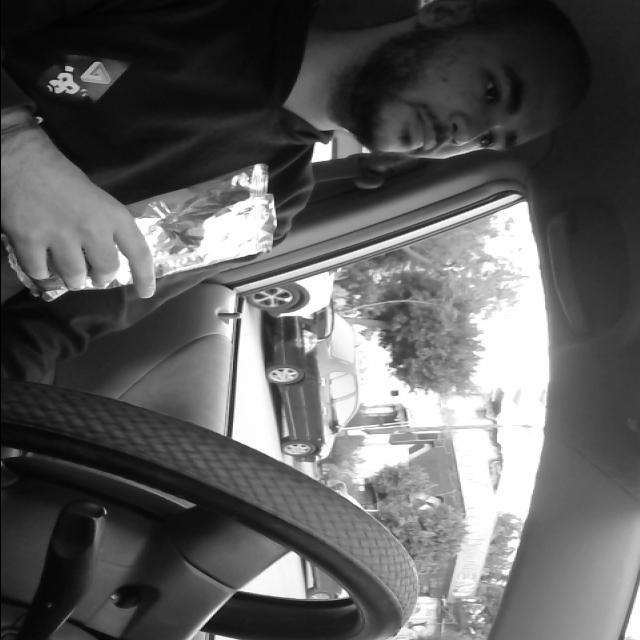eating: (0, 159, 281, 308)
